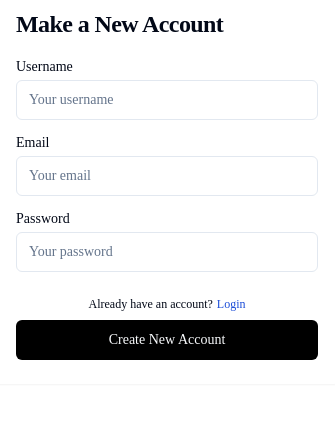
Test: RegisterCard › display error messages; invalid input
Click the button "Create New Account" at x=167, y=340, box left=16, top=320, right=318, bottom=360
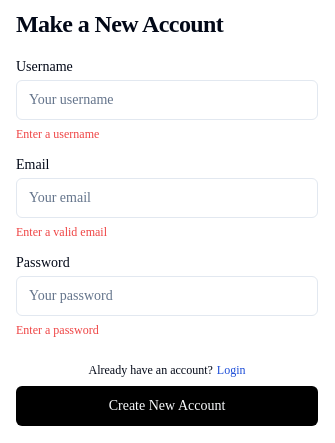
Check: the text "Enter a username" is shown, box left=16, top=127, right=99, bottom=141
Check: the text "Enter a valid email" is shown, box left=16, top=225, right=107, bottom=239
Check: the text "Enter a password" is shown, box left=16, top=323, right=99, bottom=337
